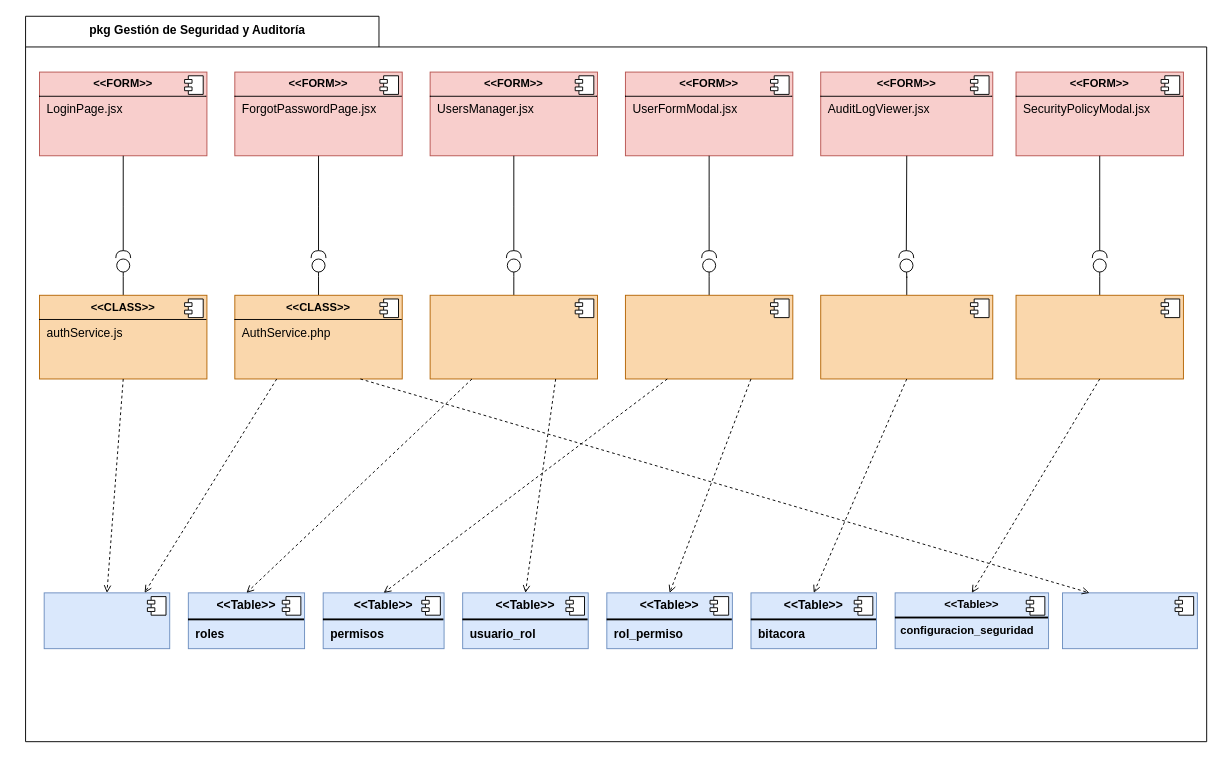
Image size: 1223x758. Some labels were removed from this diagram. The centre of each missing label's shape, as x and y in pixels:
<<CLASS>> AuditService.php: (906,336)
<<CLASS>> SecurityConfig.php: (1099,336)
<<CLASS>> UsersController.php: (708,336)
<<CLASS>> userService.js: (513,336)
<<Table>> tokens_recuperacion: (1129,620)
<<Table>> usuarios: (106,620)
